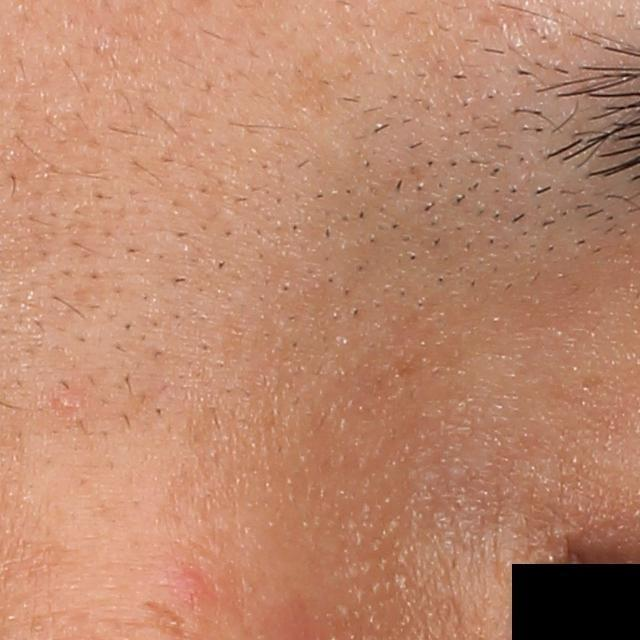papule: (166, 563, 219, 613)
